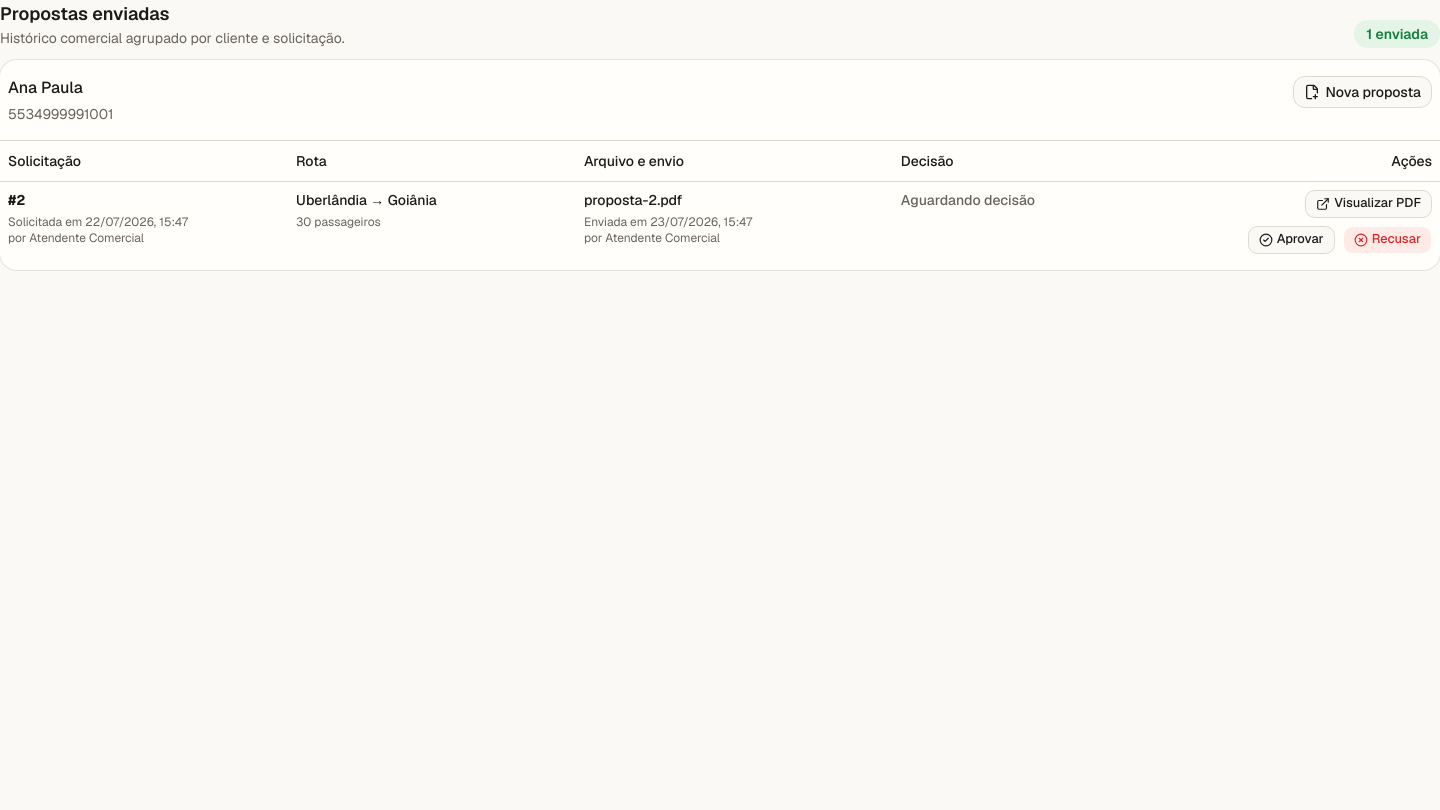
it: ProposalHistory › não expõe integrações ao falhar a consulta dos PDFs
What coordinates should you click on to do the following:
click the button "Visualizar PDF"
I would click on:
 (1369, 204)
Its box is 1305,190 -> 1432,218.
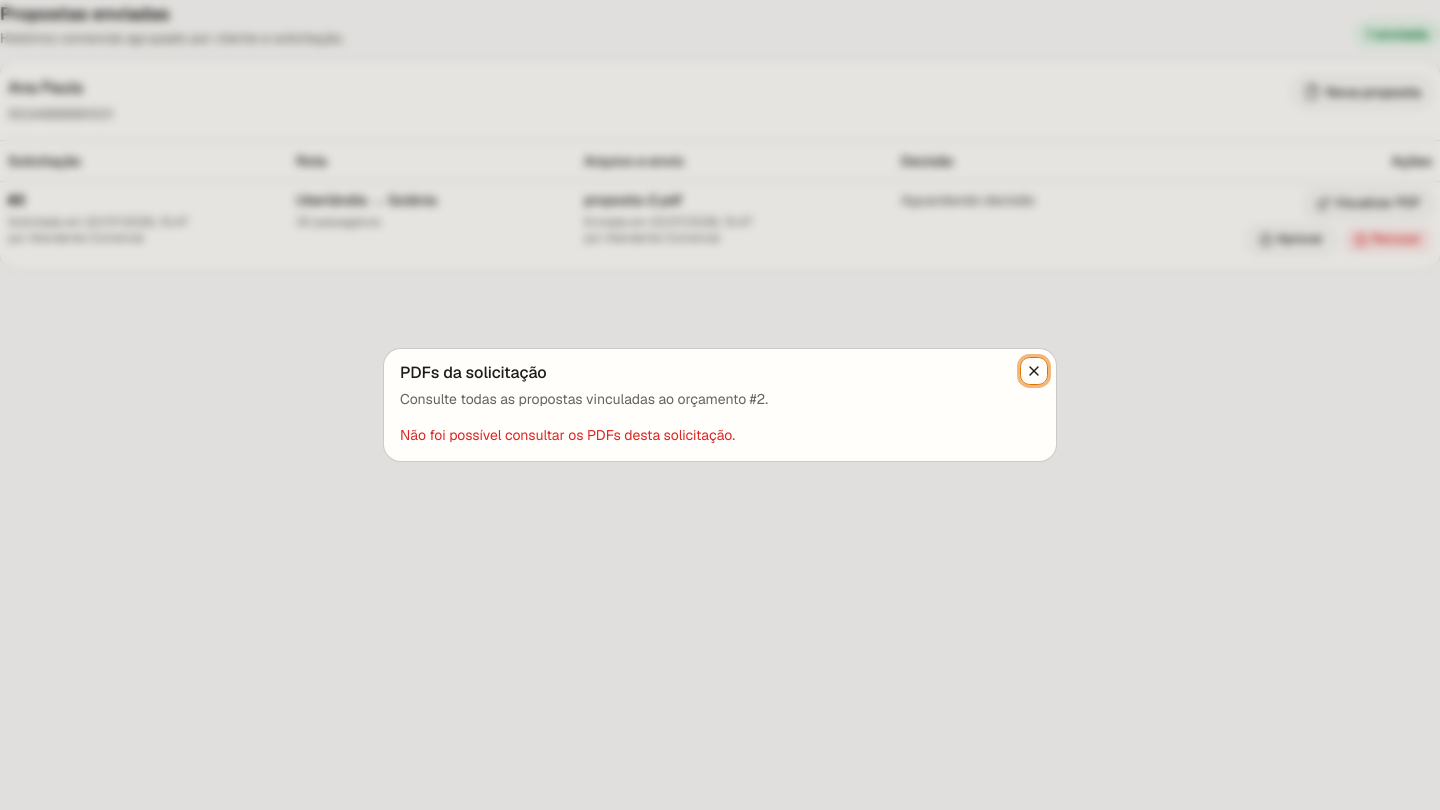
Expected: the message reads "Não foi possível consultar os PDFs desta solicitação.", 400,426 -> 735,444
